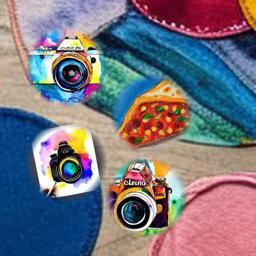something that can be eaten: (117, 79, 194, 148)
